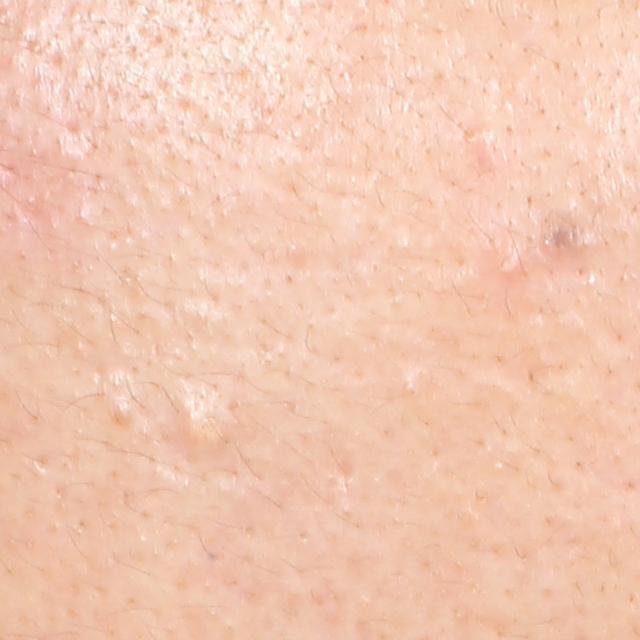comedo: (176, 392, 229, 458), (392, 367, 434, 407), (491, 247, 527, 282), (466, 124, 503, 156)
